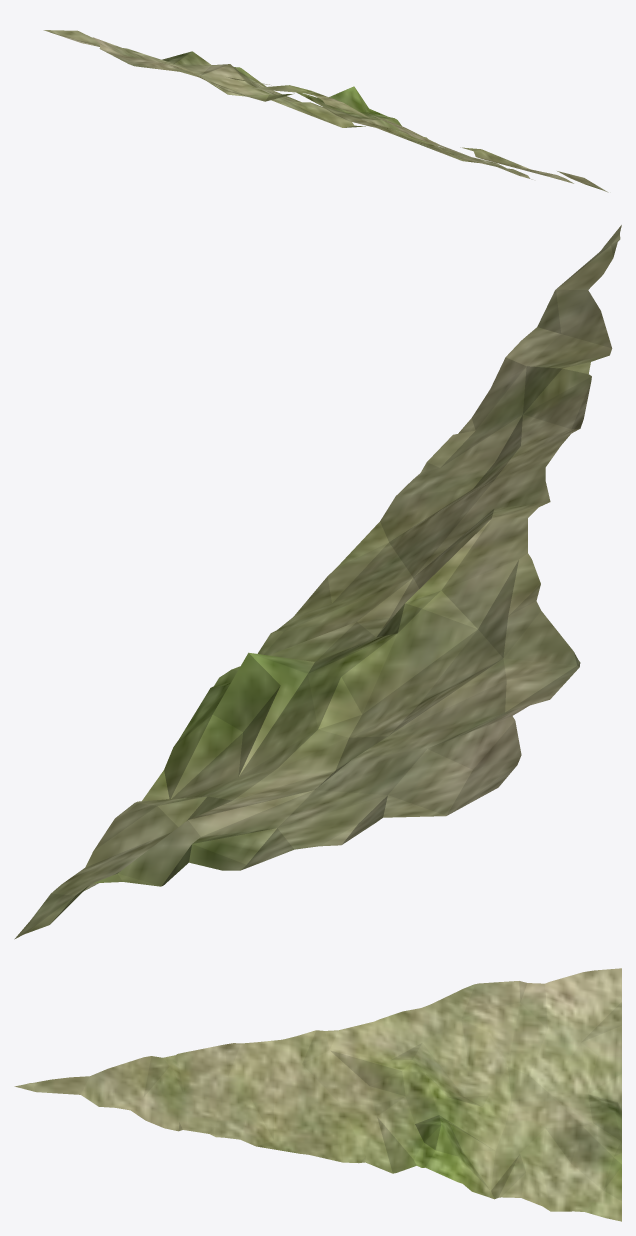
3 renders of one model, top to bottom at view 1: azimuth 30°, elevation 25°; view 2: azimuth 150°, elevation 25°; view 3: azimuth 270°, elevation 25°, orthographic. The views are drawn at different scales.
Bounding box in the file's own units: 3.54 × 1.89 × 7.7.
1 material, 1 textured.
